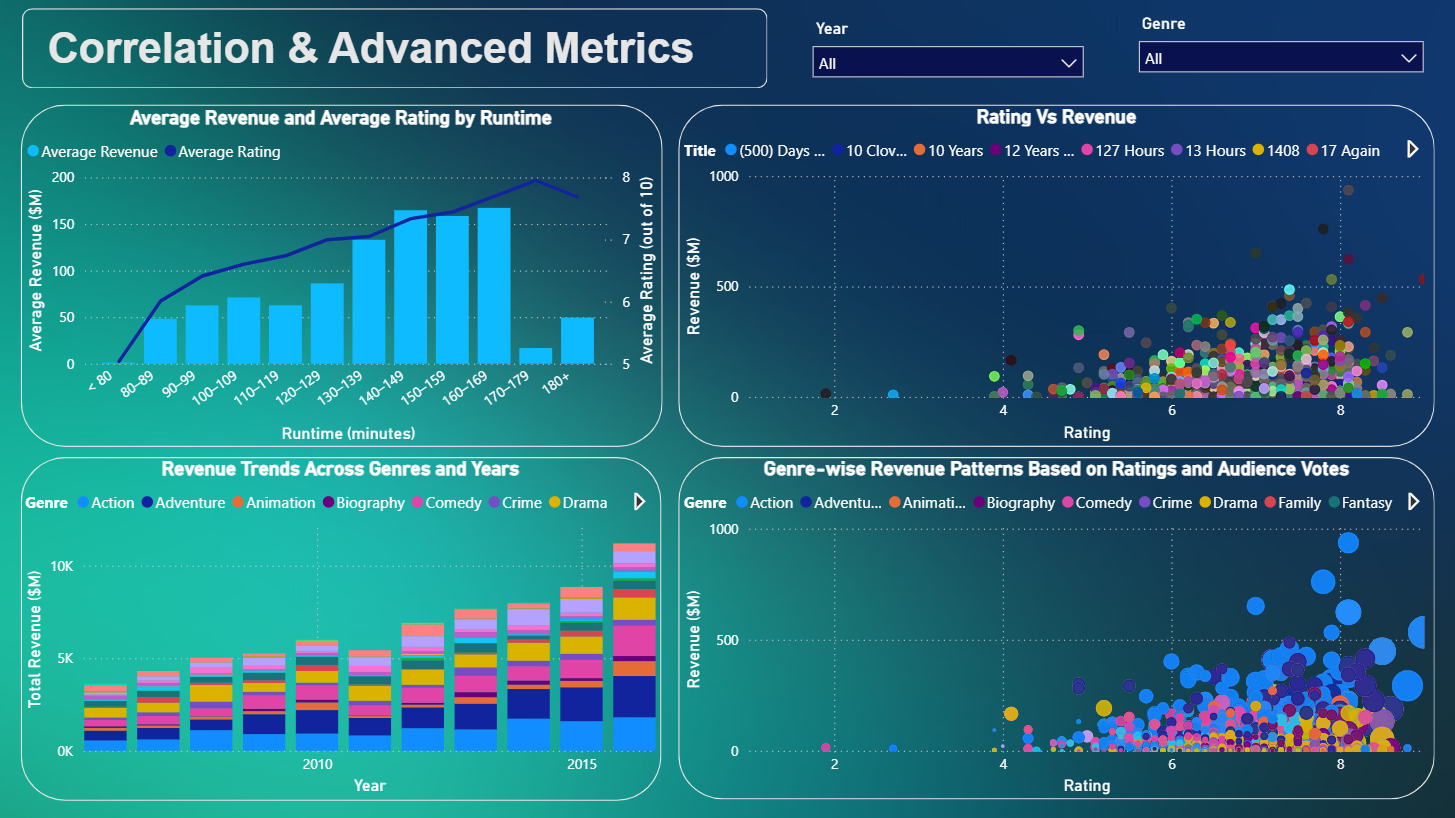

The dashboard page shown, as its layout file describes it:
{"tool":"powerbi","page":{"name":"Page 4","canvas":[1280,720],"ordinal":3},"visuals":[{"type":"shape","box":[21.7,9.7,651.5,70],"z":0},{"type":"textbox","box":[39.8,18.1,599.6,61.5],"z":1000},{"type":"shape","box":[20.5,94.1,561,299.2],"z":2000},{"type":"lineClusteredColumnComboChart","title":"Average Revenue and Average Rating by Runtime ","fields":{"Category":["IMDB-Movies.Runtime Bin"],"Y":["IMDB-Movies.Average Revenue"],"Y2":["IMDB-Movies.Average Rating"]},"box":[20.6,94.7,559.9,299.1],"z":3000},{"type":"shape","box":[594.8,94.1,661.1,299.2],"z":4000},{"type":"scatterChart","title":"Rating Vs Revenue","fields":{"X":["IMDB-Movies.Rating"],"Y":["IMDB-Movies.Revenue (Millions)"],"Series":["IMDB-Movies.Title"]},"box":[594.8,94.1,661.1,299.2],"z":5000},{"type":"slicer","fields":{"Values":["IMDB-Movies.Year"]},"box":[702.1,14.5,257,65.1],"z":6000},{"type":"shape","box":[594.8,401.7,661.1,299.2],"z":7000},{"type":"scatterChart","title":"Genre-wise Revenue Patterns Based on Ratings and Audience Votes","fields":{"Y":["IMDB-Movies.Revenue (Millions)"],"Size":["Sum(IMDB-Movies.Votes)"],"X":["IMDB-Movies.Rating"],"Series":["IMDB-Genres.Genre"]},"box":[594.8,401.7,661.1,300.4],"z":8000},{"type":"shape","box":[20.5,401.7,559.8,300.4],"z":9000},{"type":"lineStackedColumnComboChart","title":"Revenue Trends Across Genres and Years","fields":{"Category":["IMDB-Genres.Year"],"Y":["Sum(IMDB-Genres.RevenuePerGenre)"],"Series":["IMDB-Genres.Genre"]},"box":[19.3,401.7,561,300.4],"z":10000},{"type":"slicer","fields":{"Values":["IMDB-Genres.Genre"]},"box":[986.9,9.7,269,70],"z":11000}]}

Visuals, with their boxes in screenshot pixels (x1, y1, x2, y2), scaled from the page's 1280x720 canvas onto the 1455x818 screenshot:
shape: bbox=(25, 11, 765, 91)
textbox: bbox=(45, 21, 727, 90)
shape: bbox=(23, 107, 661, 447)
"Average Revenue and Average Rating by Runtime " lineClusteredColumnComboChart: bbox=(23, 108, 660, 447)
shape: bbox=(676, 107, 1428, 447)
"Rating Vs Revenue" scatterChart: bbox=(676, 107, 1428, 447)
slicer - IMDB-Movies.Year: bbox=(798, 16, 1090, 90)
shape: bbox=(676, 456, 1428, 796)
"Genre-wise Revenue Patterns Based on Ratings and Audience Votes" scatterChart: bbox=(676, 456, 1428, 798)
shape: bbox=(23, 456, 660, 798)
"Revenue Trends Across Genres and Years" lineStackedColumnComboChart: bbox=(22, 456, 660, 798)
slicer - IMDB-Genres.Genre: bbox=(1122, 11, 1428, 91)
